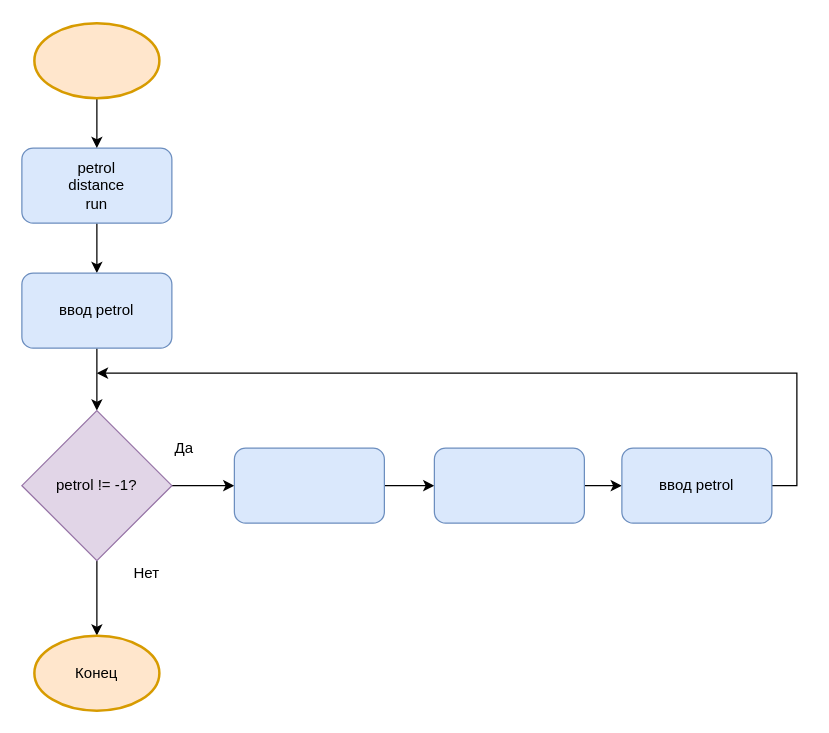
Image size: 829x733. Some labels were removed from this diagram. Here are the shapes that lost their labels. From the top down, the centre of each, then its label:
At [96,60]: "Начало".
At [308,485]: "ввод distance".
At [508,485]: "run= distance/petrol вывод run".
